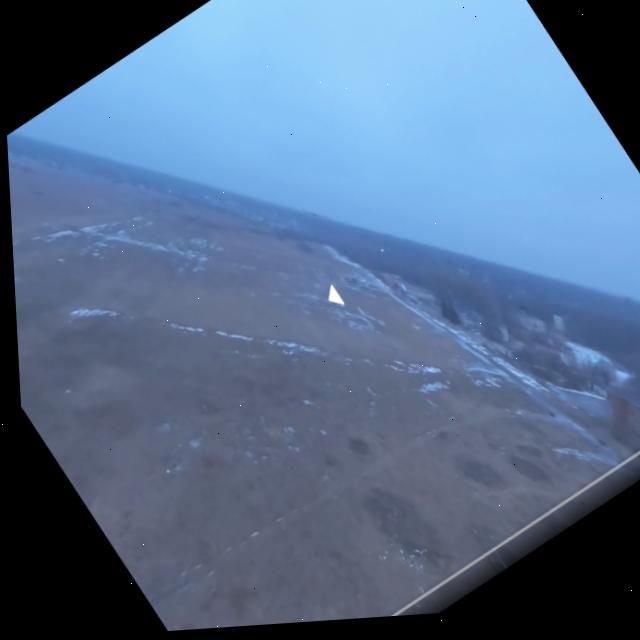planedrone: (299, 193, 332, 231)
